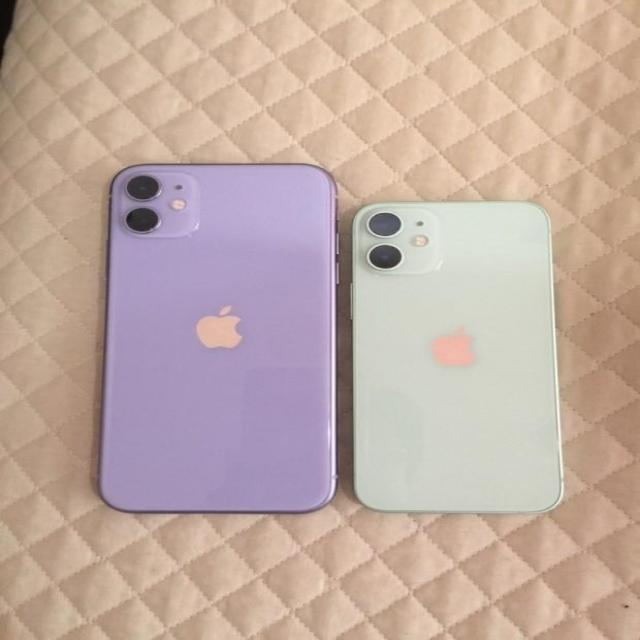mobile: (104, 158, 341, 512), (352, 196, 561, 514)
